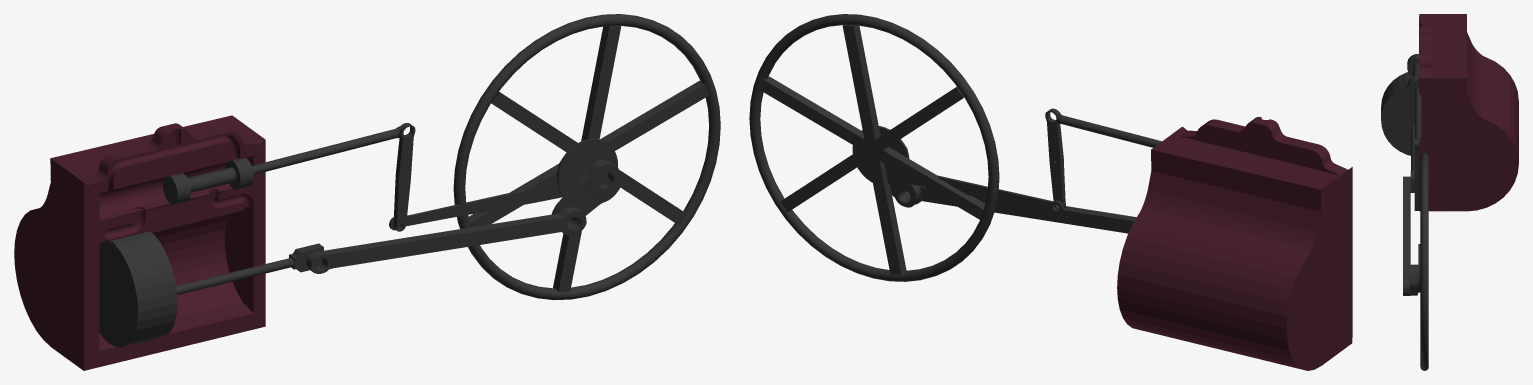
The picture shows the model from 3 angles, left to right: view 1: azimuth 30°, elevation 25°; view 2: azimuth 150°, elevation 25°; view 3: azimuth 270°, elevation 25°; orthographic projection. The views are drawn at different scales.
Visible parts, largest first — view 1: Cylinder.005, flywheel, big-piston, Cube.001, Cylinder.007, Cube.002, small-piston.003, Cylinder.006, small-piston.004, Cube.003; view 2: Cylinder.005, flywheel, Cube.001, Cylinder.007, Cube.003, small-piston.004, Cube.002, Cylinder.006; view 3: Cylinder.005, big-piston, flywheel, Cube.001, small-piston.003, Cube.003, small-piston.004, Cube.002, Cylinder.006.
Part boxes in pixels (<box>): Cylinder.005: <box>14,115,265,370</box>; flywheel: <box>453,14,720,300</box>; big-piston: <box>99,231,323,347</box>; Cube.001: <box>306,207,586,273</box>; Cylinder.007: <box>389,184,563,230</box>; Cube.002: <box>551,160,622,226</box>; small-piston.003: <box>162,157,253,204</box>; Cylinder.006: <box>557,138,617,195</box>; small-piston.004: <box>252,123,411,174</box>; Cube.003: <box>393,123,415,231</box>; Cylinder.005: <box>1117,117,1352,370</box>; flywheel: <box>749,14,999,281</box>; Cube.001: <box>903,186,1136,233</box>; Cylinder.007: <box>867,162,1063,213</box>; Cube.003: <box>1045,108,1065,210</box>; small-piston.004: <box>1045,109,1161,147</box>; Cube.002: <box>890,182,920,207</box>; Cylinder.006: <box>852,126,909,186</box>; Cylinder.005: <box>1418,14,1518,211</box>; big-piston: <box>1381,72,1414,192</box>; flywheel: <box>1420,153,1428,370</box>; Cube.001: <box>1403,176,1410,295</box>; small-piston.003: <box>1407,54,1419,98</box>; Cube.003: <box>1414,138,1419,210</box>; small-piston.004: <box>1415,87,1421,146</box>; Cube.002: <box>1409,264,1418,295</box>; Cylinder.006: <box>1418,244,1420,292</box>.
Size of the model in its own units: 142 by 58.81 by 37.11.
